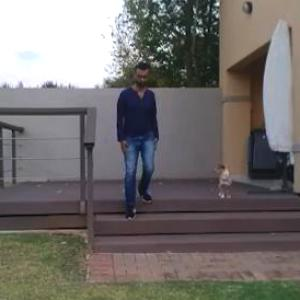follow: (115, 60, 154, 217)
